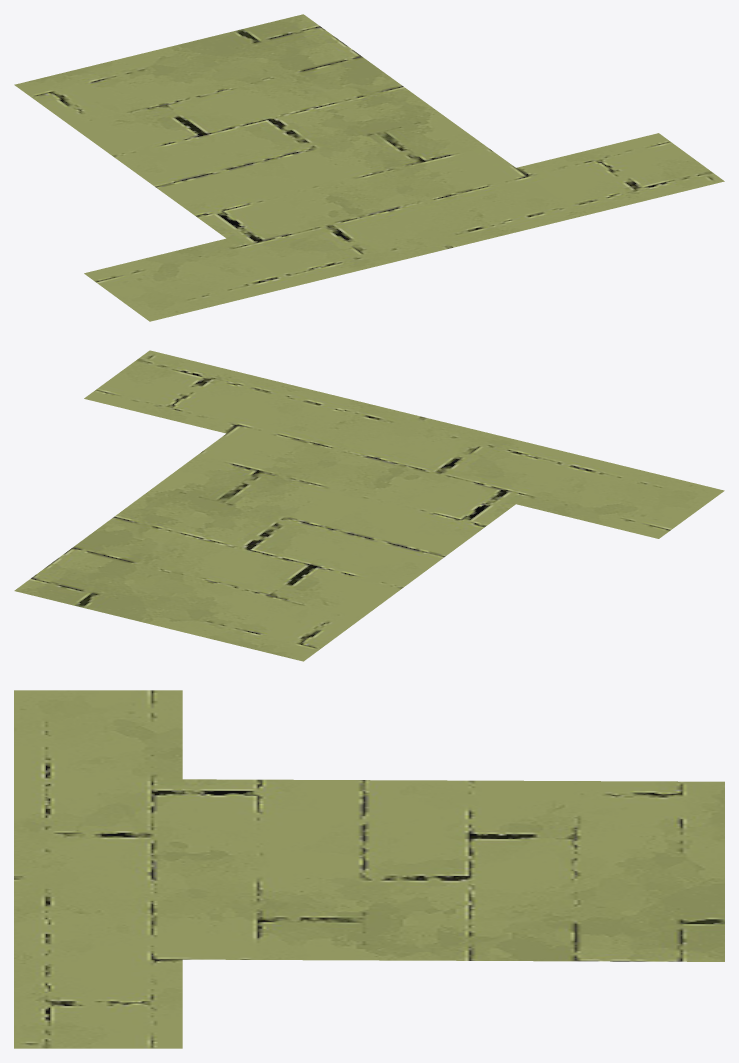
The model's file is Start_platform.fbx.
The picture shows the model from 3 angles, top to bottom: view 1: azimuth 30°, elevation 25°; view 2: azimuth 150°, elevation 25°; view 3: azimuth 270°, elevation 25°; orthographic projection. The views are drawn at different scales.
Parts seen in each view (by area): view 1: Start_Platform; view 2: Start_Platform; view 3: Start_Platform.
Part boxes in pixels (x1,y1,x2,y2): Start_Platform: [14, 14, 724, 321]; Start_Platform: [14, 350, 724, 661]; Start_Platform: [14, 690, 724, 1048].
Size of the model in its own units: 1846 by 5.65 by 1549.
